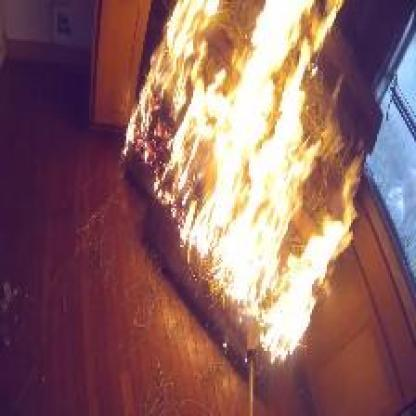fire: (87, 0, 384, 390)
